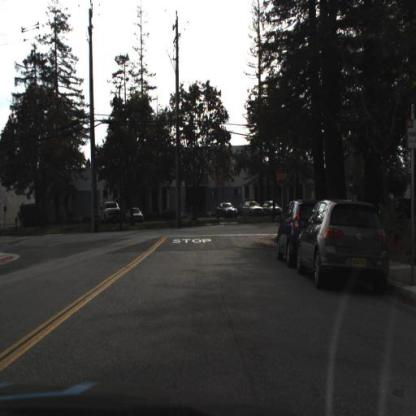car: (298, 196, 394, 295), (297, 197, 392, 294), (275, 199, 317, 269), (274, 195, 298, 270), (214, 199, 241, 225), (100, 196, 123, 224), (243, 197, 266, 223), (127, 207, 146, 227)
